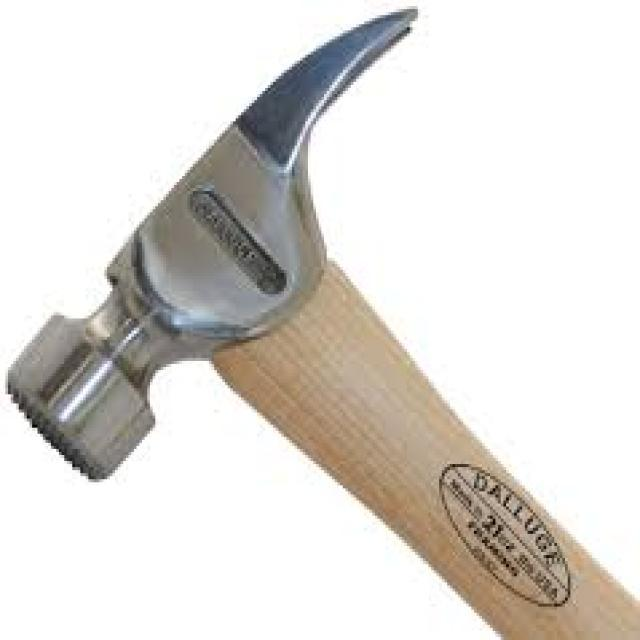Palu: (11, 17, 631, 640)
